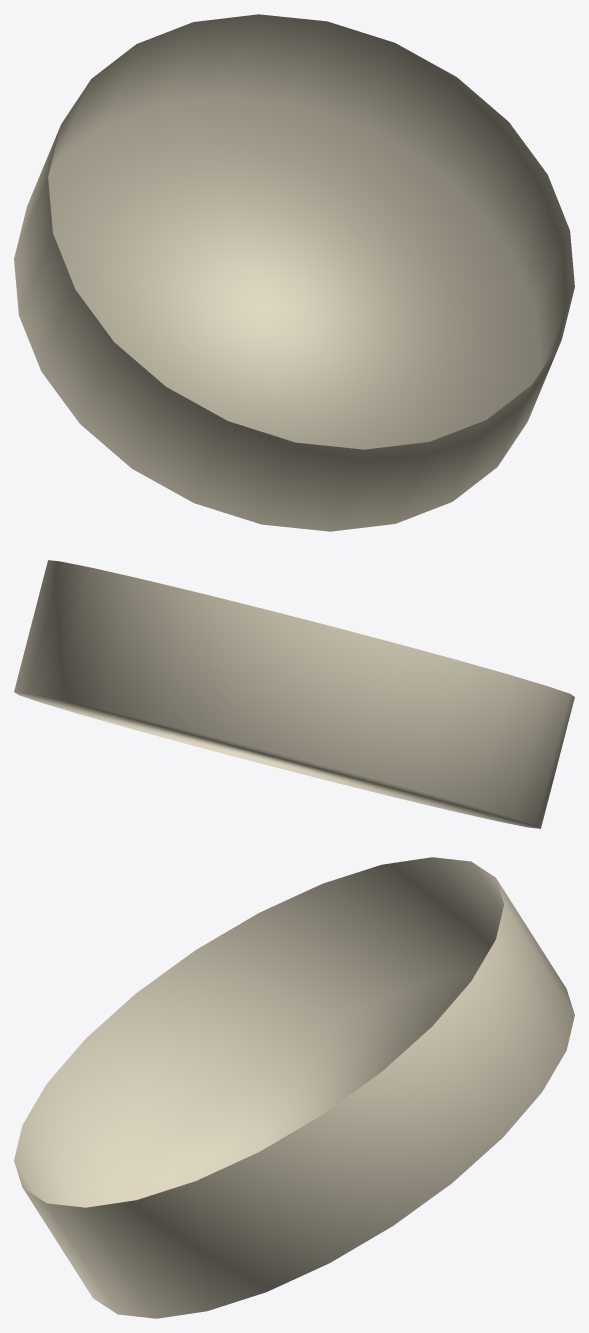
Rendered from original-98.obj.
3 renders of one model, top to bottom at view 1: azimuth 30°, elevation 25°; view 2: azimuth 150°, elevation 25°; view 3: azimuth 270°, elevation 25°, orthographic. The views are drawn at different scales.
Visible parts, largest first — view 1: mesh109/mesh109-geometry#mesh109-geometry; view 2: mesh109/mesh109-geometry#mesh109-geometry; view 3: mesh109/mesh109-geometry#mesh109-geometry.
Boxes of the visible parts, left/top/right/bottom form: mesh109/mesh109-geometry#mesh109-geometry: left=14, top=14, right=574, bottom=531; mesh109/mesh109-geometry#mesh109-geometry: left=14, top=560, right=574, bottom=828; mesh109/mesh109-geometry#mesh109-geometry: left=14, top=857, right=574, bottom=1318.
Bounding box in the file's own units: 0.0212 × 0.0152 × 0.021.
